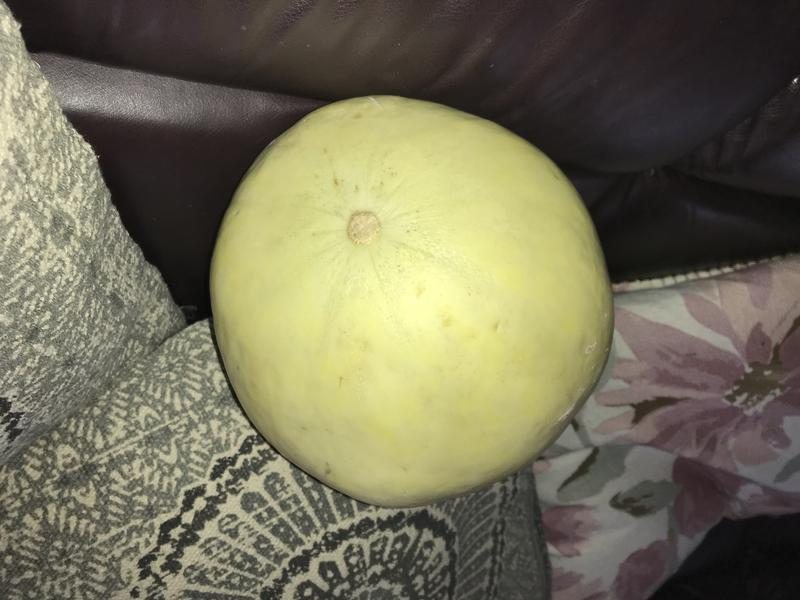honeydew: (195, 82, 631, 519)
